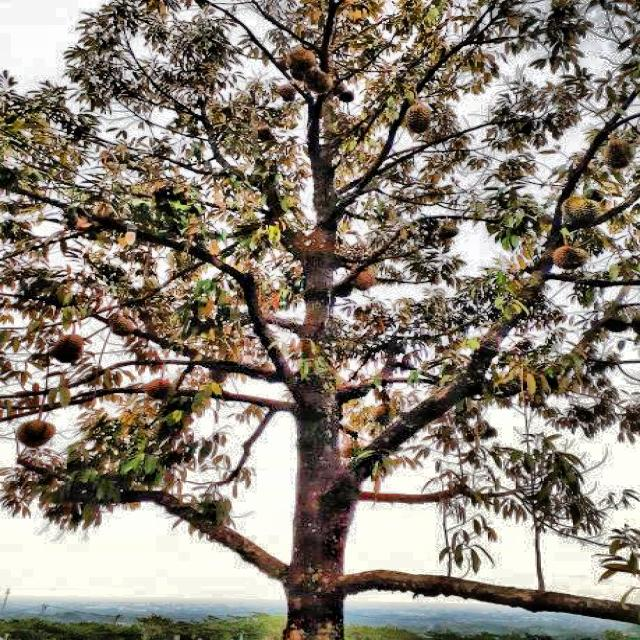arvore: (246, 136, 381, 640)
